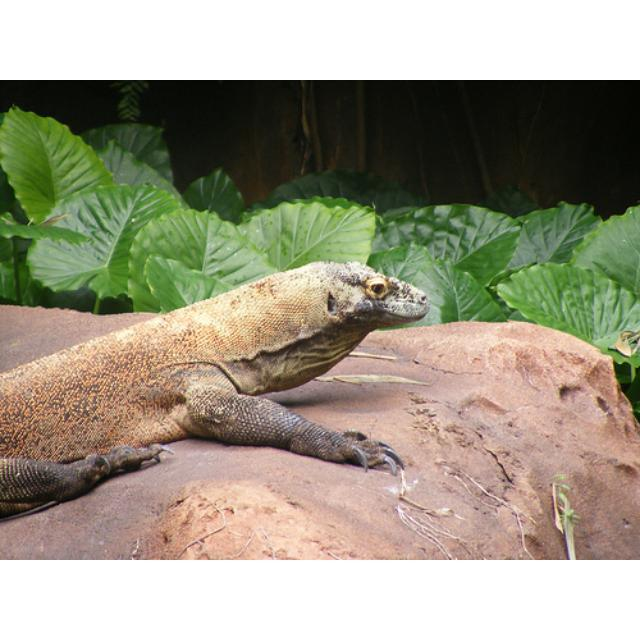KomodoDragon: (1, 255, 432, 521)
